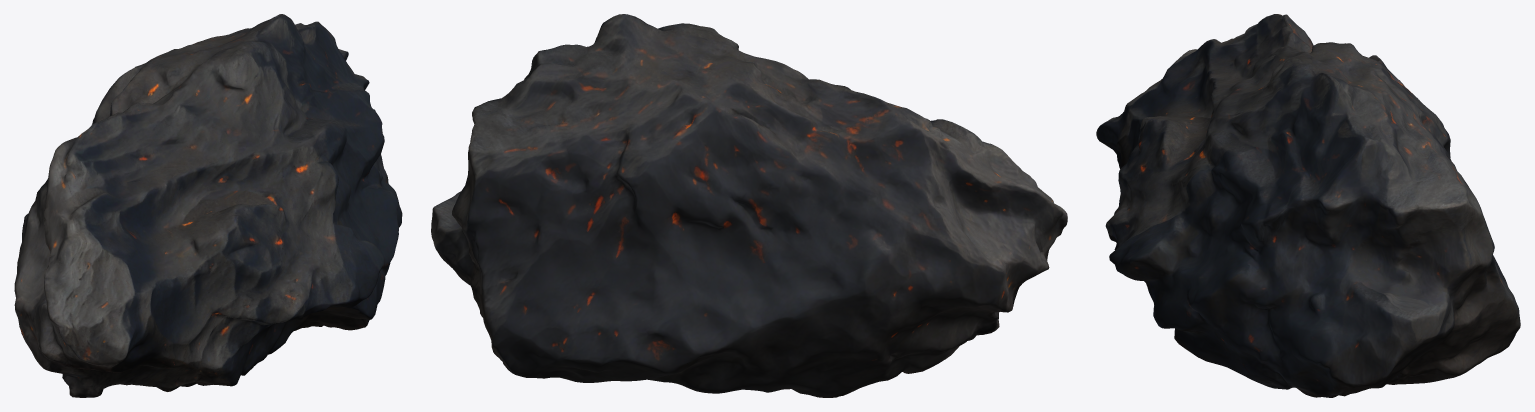
Rendered from AI_VolcanicRock.fbx.
3 renders of one model, left to right at view 1: azimuth 30°, elevation 25°; view 2: azimuth 150°, elevation 25°; view 3: azimuth 270°, elevation 25°, orthographic. The views are drawn at different scales.
Visible parts, largest first — view 1: Mesh1.0; view 2: Mesh1.0; view 3: Mesh1.0.
Part boxes in pixels (x1,y1,x2,y2): Mesh1.0: (14, 14, 402, 397); Mesh1.0: (431, 14, 1067, 397); Mesh1.0: (1096, 14, 1520, 397).
Bounding box in the file's own units: 200 × 131 × 161.
1 material, 1 textured.
